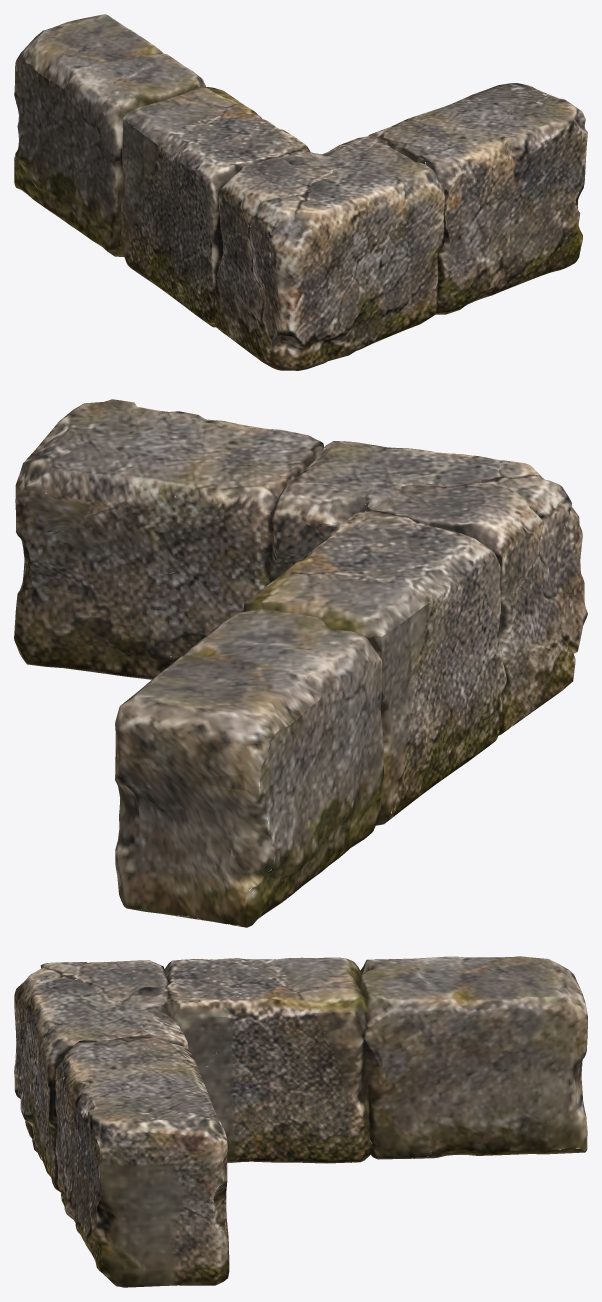
Rendered from piece_04_7824tris.glb.
The picture shows the model from 3 angles, top to bottom: view 1: azimuth 30°, elevation 25°; view 2: azimuth 150°, elevation 25°; view 3: azimuth 270°, elevation 25°; orthographic projection. The views are drawn at different scales.
Visible parts, largest first — view 1: Eldoria_MultiPiece_Group_04; view 2: Eldoria_MultiPiece_Group_04; view 3: Eldoria_MultiPiece_Group_04.
Boxes of the visible parts, bbox=[...] form: Eldoria_MultiPiece_Group_04: bbox=[14, 14, 587, 370]; Eldoria_MultiPiece_Group_04: bbox=[14, 399, 587, 927]; Eldoria_MultiPiece_Group_04: bbox=[14, 956, 587, 1287].
Bounding box in the file's own units: 0.262 × 0.1096 × 0.3451.
Materials: 1 (1 with a texture image).
